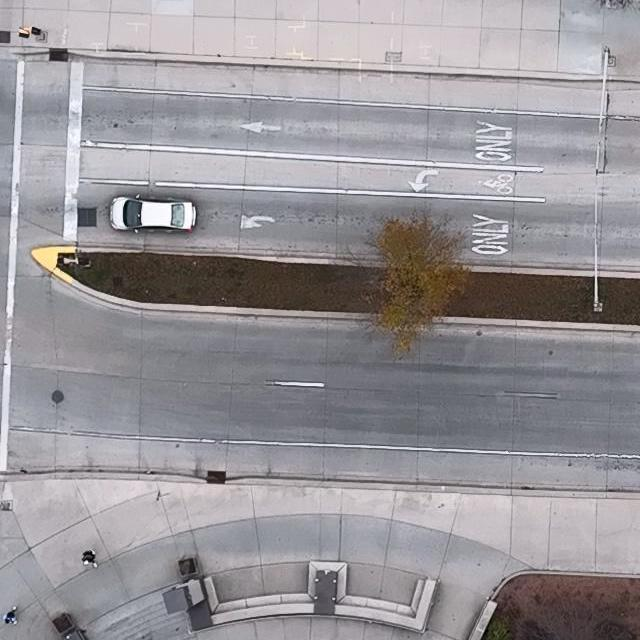car: (110, 193, 196, 234)
